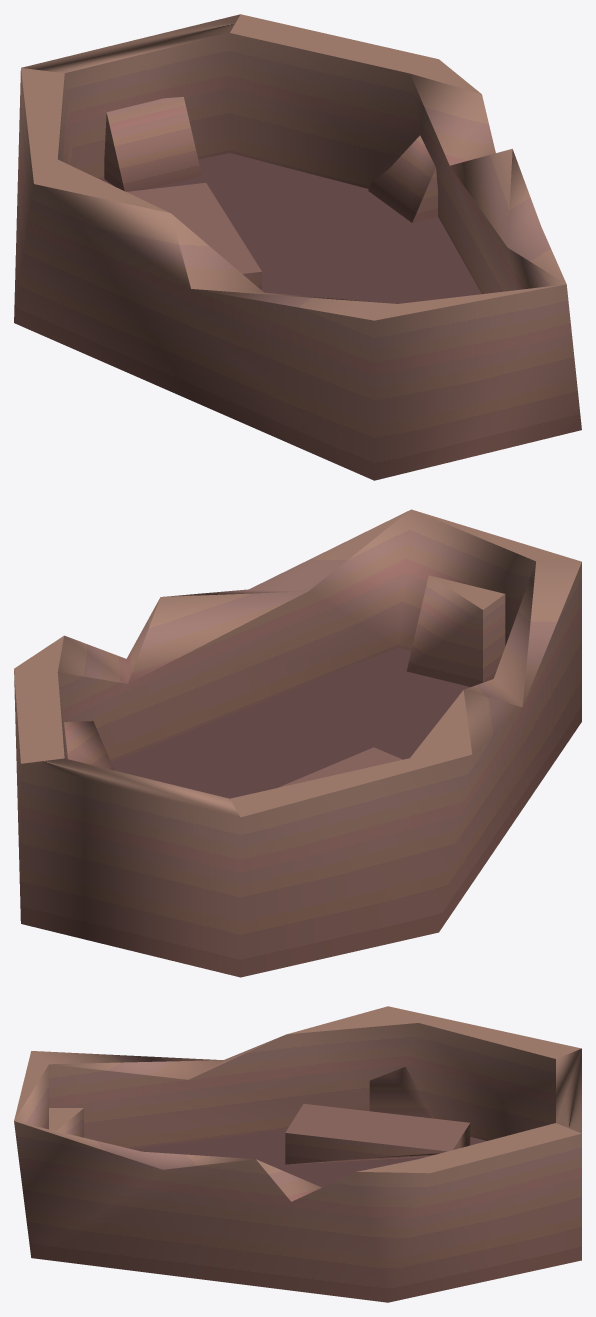
File: coffin-old.glb
The picture shows the model from 3 angles, top to bottom: view 1: azimuth 30°, elevation 25°; view 2: azimuth 150°, elevation 25°; view 3: azimuth 270°, elevation 25°; orthographic projection. The views are drawn at different scales.
Visible parts, largest first — view 1: coffin-old; view 2: coffin-old; view 3: coffin-old.
Part boxes in pixels (<box>): coffin-old: <box>14,14,581,480</box>; coffin-old: <box>14,509,581,977</box>; coffin-old: <box>14,1006,581,1302</box>.
Bounding box in the file's own units: 0.5742 × 0.2004 × 0.8128.
Materials: 1 (1 with a texture image).
